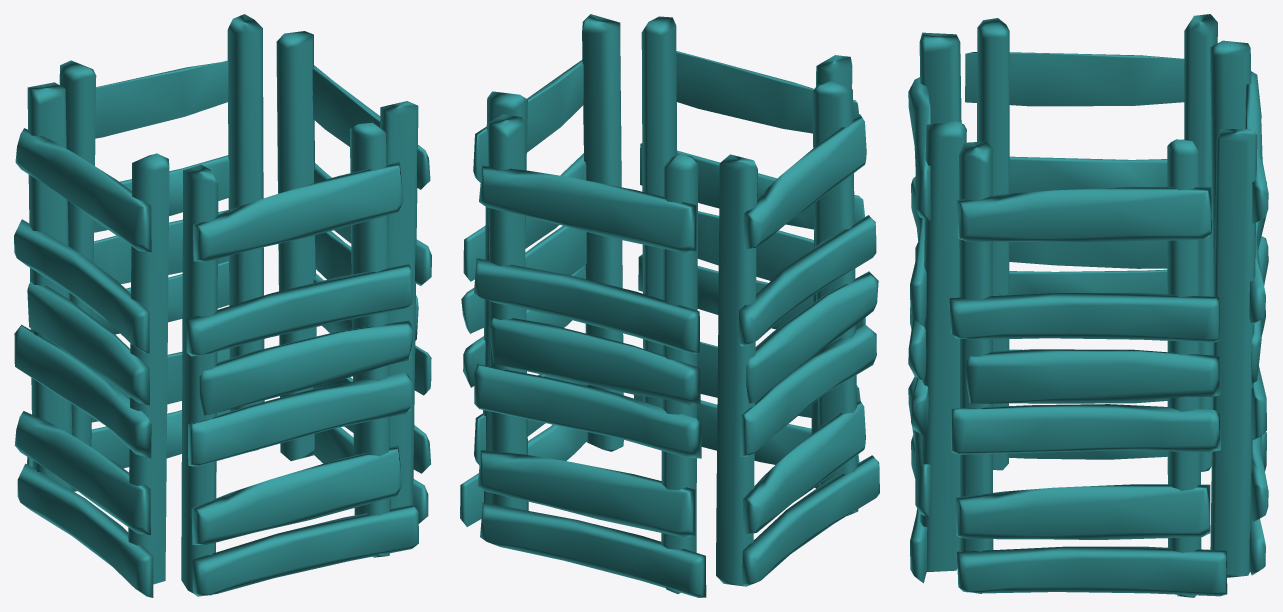
Rendered from SM_Construction_Kit_Support.fbx.
The picture shows the model from 3 angles, left to right: view 1: azimuth 30°, elevation 25°; view 2: azimuth 150°, elevation 25°; view 3: azimuth 270°, elevation 25°; orthographic projection. The views are drawn at different scales.
Parts seen in each view (by area): view 1: Construction_Kit_Support; view 2: Construction_Kit_Support; view 3: Construction_Kit_Support.
Part boxes in pixels (x1,y1,x2,y2): Construction_Kit_Support: (14,14,431,597); Construction_Kit_Support: (460,14,879,597); Construction_Kit_Support: (908,14,1268,597).
Size of the model in its own units: 137 by 186 by 137.
